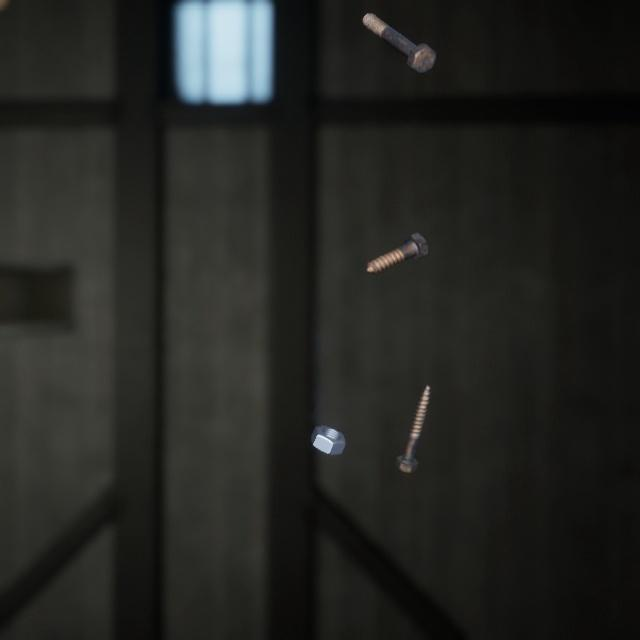bolt: (357, 1, 441, 70), (390, 361, 434, 458), (362, 212, 432, 263)
nut: (308, 401, 352, 438)
